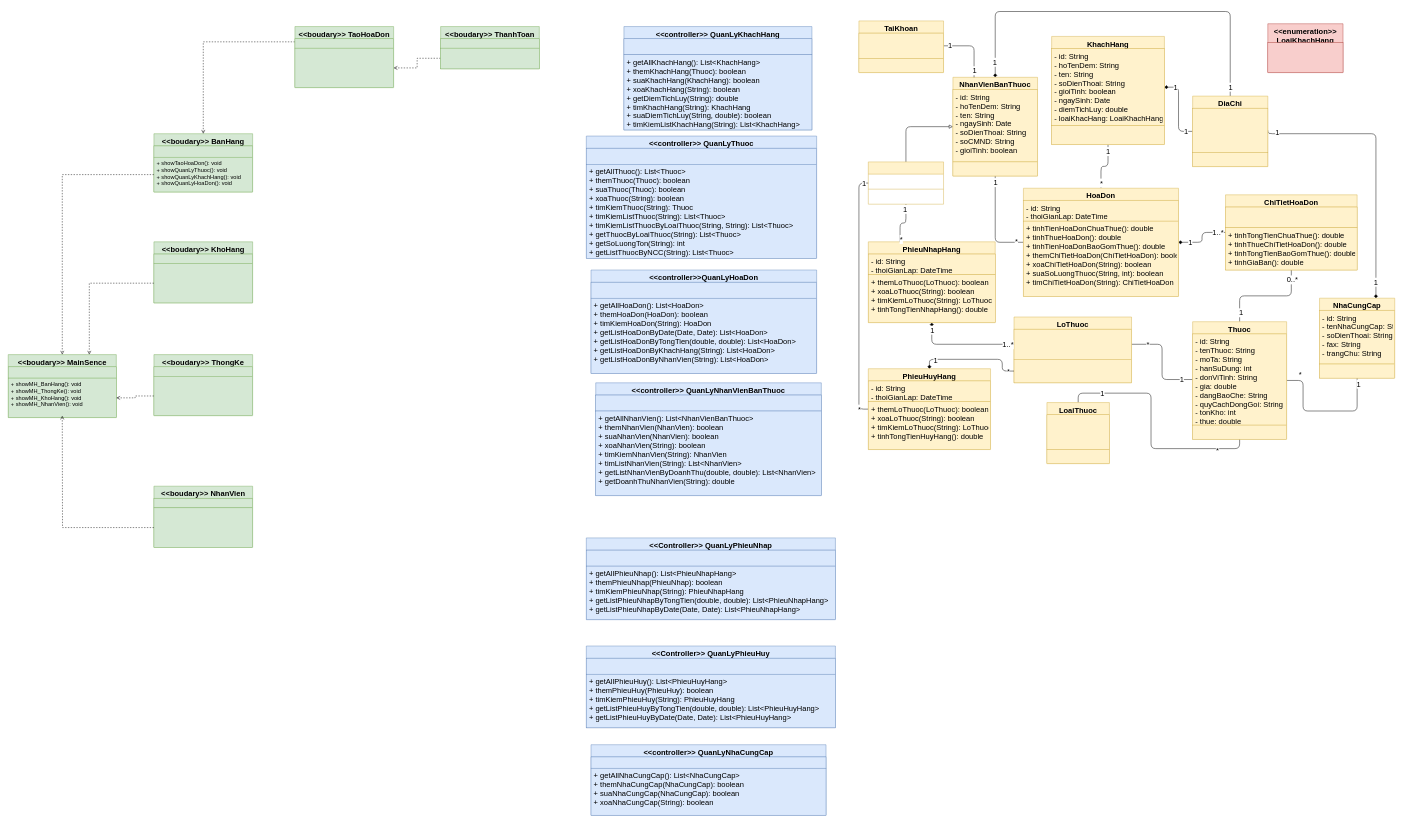
Some shapes in this 1414 by 825 pixel diagram are drawn without their labels. The centre of each missing label's shape, as x and y in pixels:
+ showThanhToan(): void: pixel 344 68
+ showThongBao(): void: pixel 489 58
+ tinhNgayHetHan(): Date + tinhTongTienLoThuoc(): double: pixel 1073 371
- id: String - tenLoai: String - moTa: String: pixel 1077 432
- ngaySanXuat: Date - soLuong: int: pixel 1073 344
- phuongXa: String - quanHuyen: String - tinhThanhPho: String - chiTiet: String: pixel 1230 130
- soLuong: int: pixel 1291 217
- tenDangNhap: String - matKhau: String: pixel 901 46
MEMBER VIP SUPERVIP: pixel 1305 57
QuanLy: pixel 906 182
